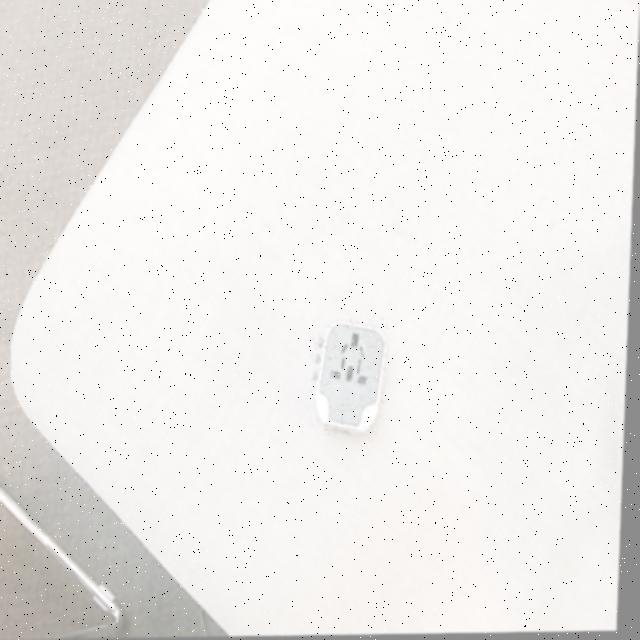adapter: (312, 318, 391, 436)
